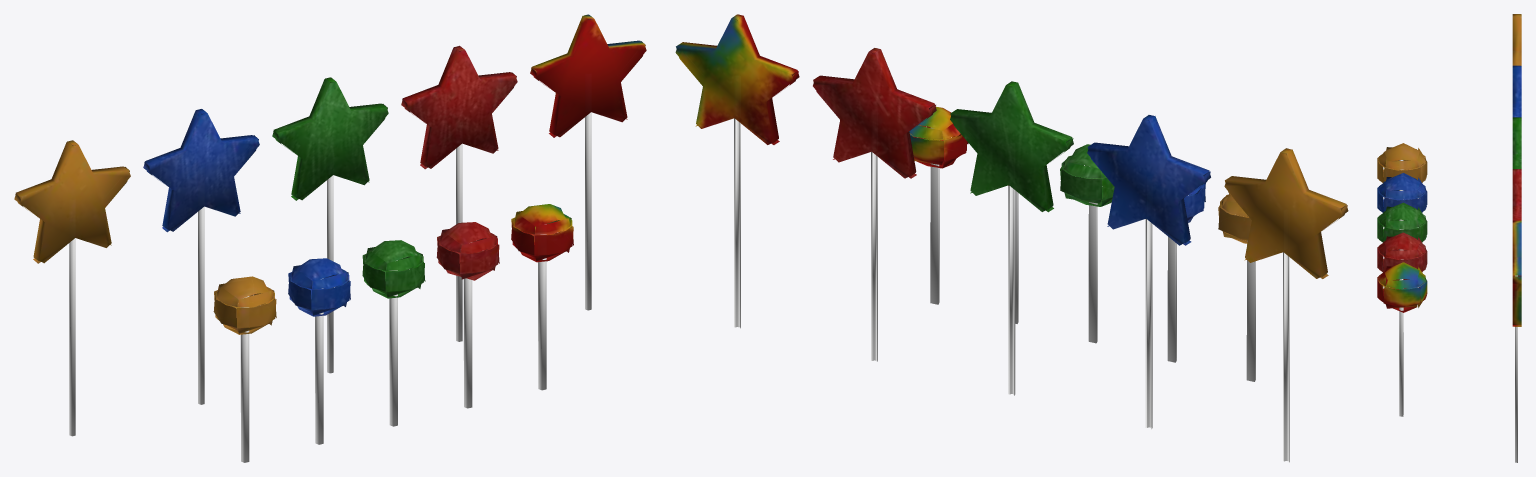
Rendered from decorLarge-candy-73.glb.
3 views of the same model, side by side, from view 1: azimuth 30°, elevation 25°; view 2: azimuth 150°, elevation 25°; view 3: azimuth 270°, elevation 25° (orthographic). The views are drawn at different scales.
Visible parts, largest first — view 1: piece; view 2: piece; view 3: piece.
Part boxes in pixels (left/top/right/bottom): piece: left=14, top=14, right=646, bottom=462; piece: left=675, top=14, right=1348, bottom=462; piece: left=1377, top=14, right=1521, bottom=462.
Bounding box in the file's own units: 3.38 × 1.51 × 0.8217.
Materials: 2 (2 with a texture image).
